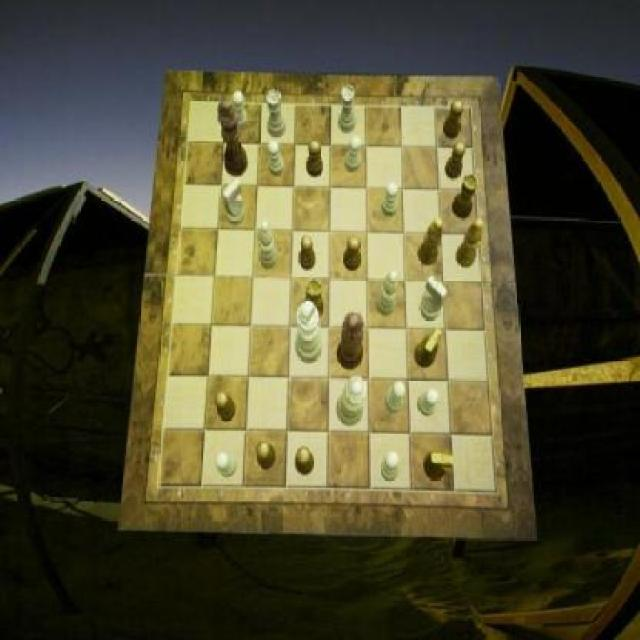bishop: (457, 217, 485, 268), (419, 217, 443, 266)
black-bishop: (218, 99, 248, 176)
black-king: (416, 328, 442, 368), (423, 451, 454, 482)
black-knight: (444, 142, 466, 179), (443, 100, 463, 138), (216, 391, 237, 422), (306, 140, 323, 178), (343, 237, 361, 271), (300, 235, 317, 270), (257, 442, 277, 471), (296, 448, 314, 475)
black-pawn: (337, 312, 365, 370)
black-queen: (452, 172, 480, 218), (304, 277, 324, 319)
black-rook: (377, 270, 400, 316), (258, 220, 278, 269)
white-bishop: (296, 300, 322, 364)
white-king: (420, 275, 448, 321), (224, 179, 246, 226)
white-knight: (384, 382, 406, 416), (344, 135, 362, 173), (232, 91, 248, 131), (380, 451, 400, 482), (417, 389, 439, 417), (268, 139, 284, 176), (215, 451, 238, 476), (382, 182, 398, 216)
white-pawn: (337, 376, 368, 426)
white-queen: (266, 91, 286, 138), (339, 86, 356, 134)
